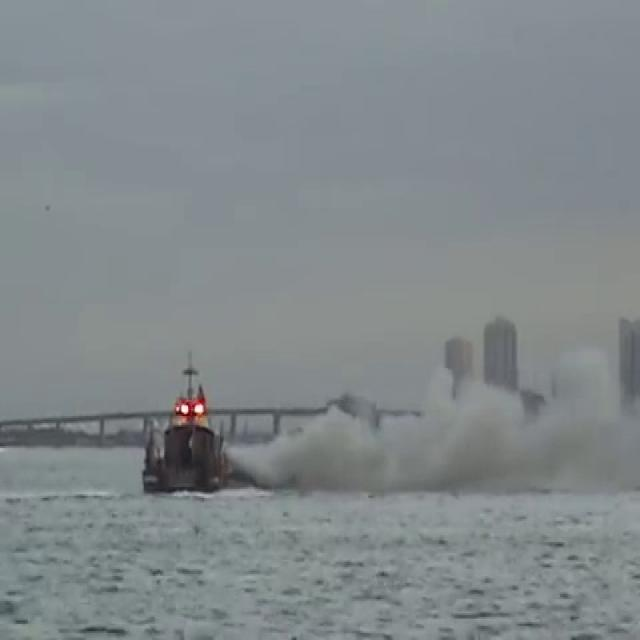Smoke: (256, 363, 640, 498)
